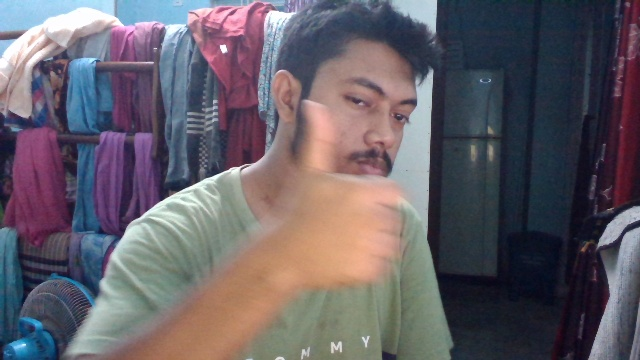yes: (262, 94, 419, 302)
